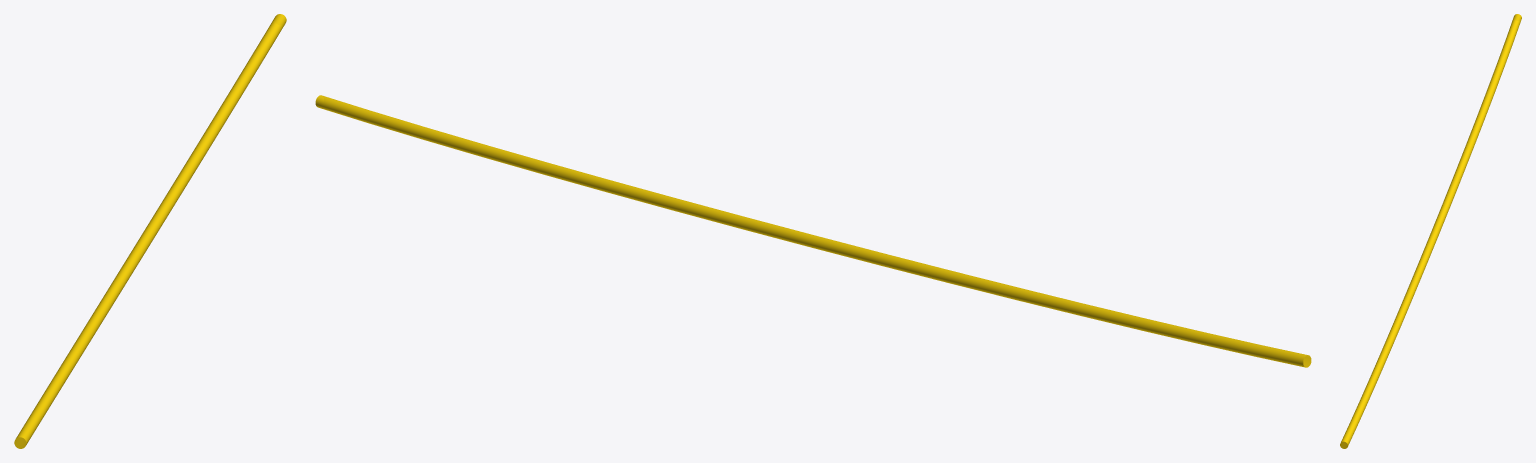
File: Event_420094457_track_26.fbx
3 views of the same model, side by side, from view 1: azimuth 90°, elevation 25°; view 2: azimuth 150°, elevation 25°; view 3: azimuth 270°, elevation 25° (orthographic). The views are drawn at different scales.
Parts seen in each view (by area): view 1: Model; view 2: Model; view 3: Model.
Boxes of the visible parts, box(x1,y1,x2,y2) form: Model: box(14, 14, 286, 448); Model: box(315, 95, 1311, 367); Model: box(1340, 14, 1521, 448).
Size of the model in its own units: 4.08 by 0.4265 by 0.8803.
